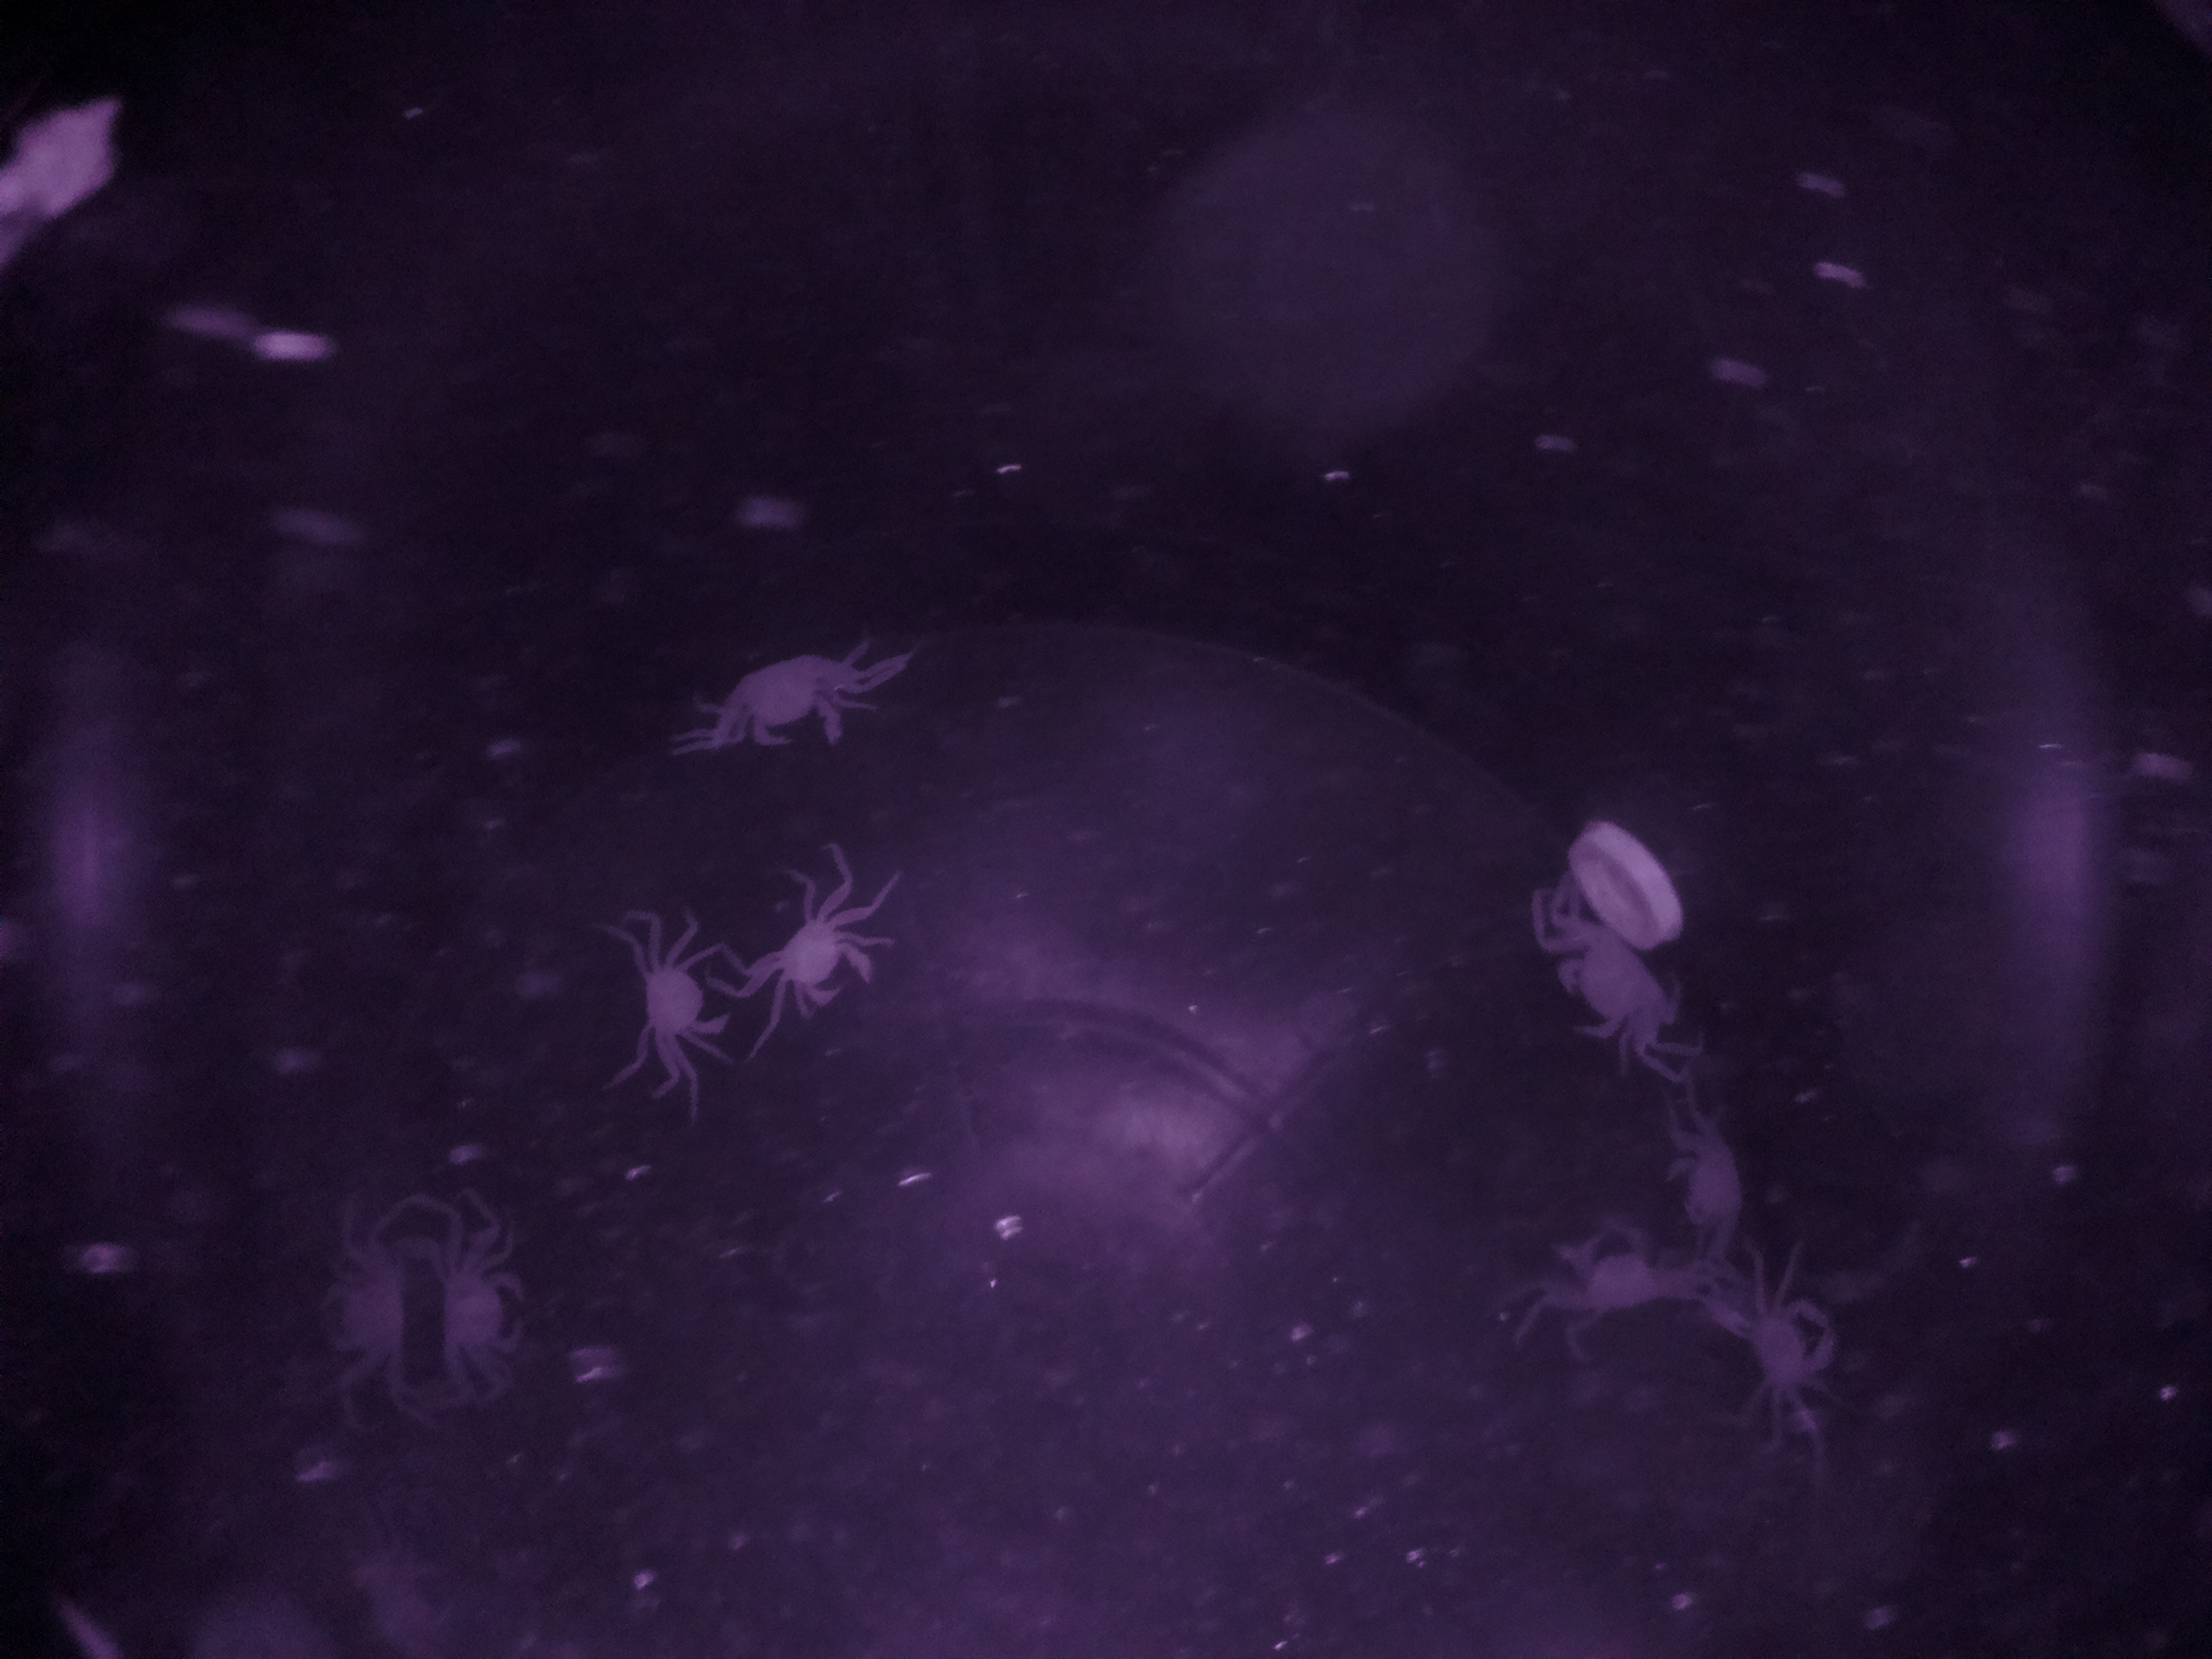Crab: (303, 1176, 421, 1410), (1534, 892, 1689, 1068), (747, 871, 892, 1047), (1712, 1267, 1864, 1429), (428, 1206, 538, 1424), (603, 925, 745, 1087), (707, 619, 853, 769)
